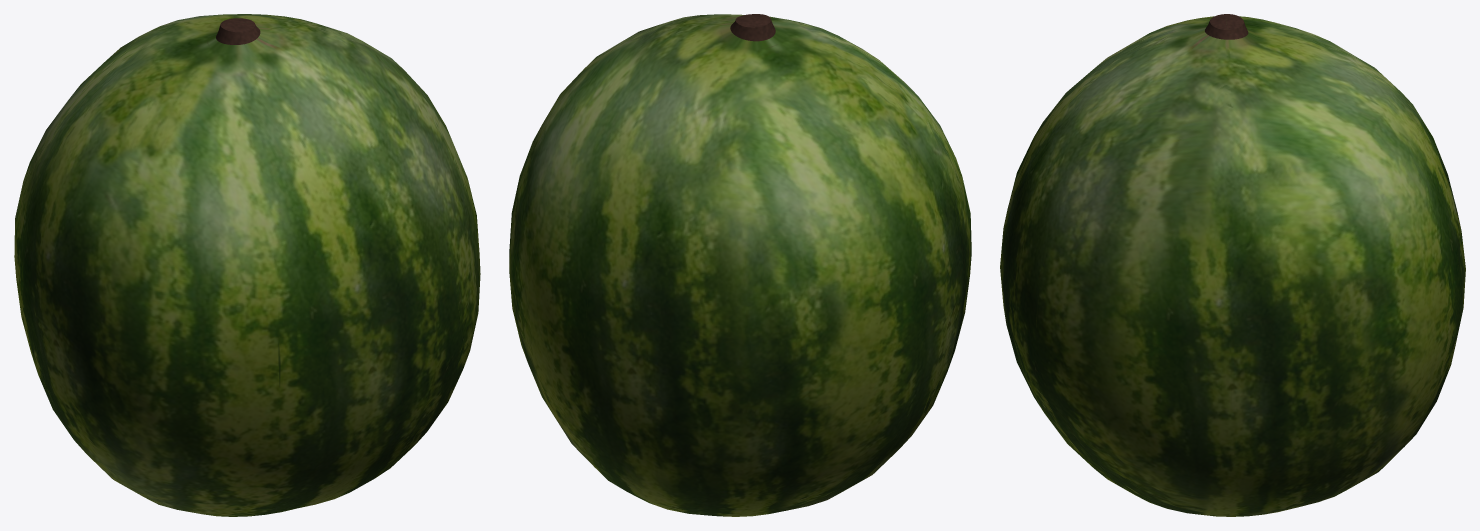
The model's file is arbuz.fbx.
The picture shows the model from 3 angles, left to right: view 1: azimuth 30°, elevation 25°; view 2: azimuth 150°, elevation 25°; view 3: azimuth 270°, elevation 25°; orthographic projection.
Parts seen in each view (by area): view 1: Arbuz; view 2: Arbuz; view 3: Arbuz.
Boxes of the visible parts, x1,y1,x2,y2 form: Arbuz: (14,14,480,516); Arbuz: (509,14,971,516); Arbuz: (1000,14,1465,516).
Bounding box in the file's own units: 35.5 × 39.5 × 35.4.
Materials: 1 (1 with a texture image).
